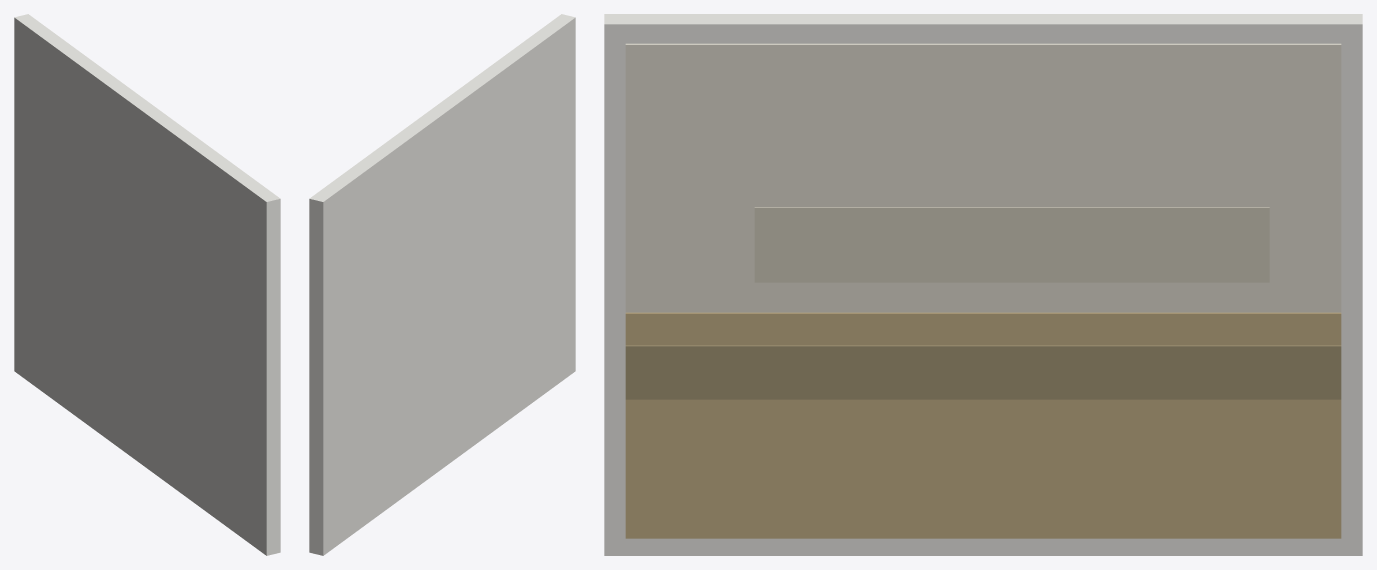
The picture shows the model from 3 angles, left to right: view 1: azimuth 30°, elevation 25°; view 2: azimuth 150°, elevation 25°; view 3: azimuth 270°, elevation 25°; orthographic projection. The views are drawn at different scales.
Parts seen in each view (by area): view 1: root; view 2: root; view 3: root.
Part boxes in pixels (<box>): root: <box>14,14,280,555</box>; root: <box>309,14,575,555</box>; root: <box>604,14,1362,555</box>.
Bounding box in the file's own units: 0.0335 × 0.6248 × 0.8077.
